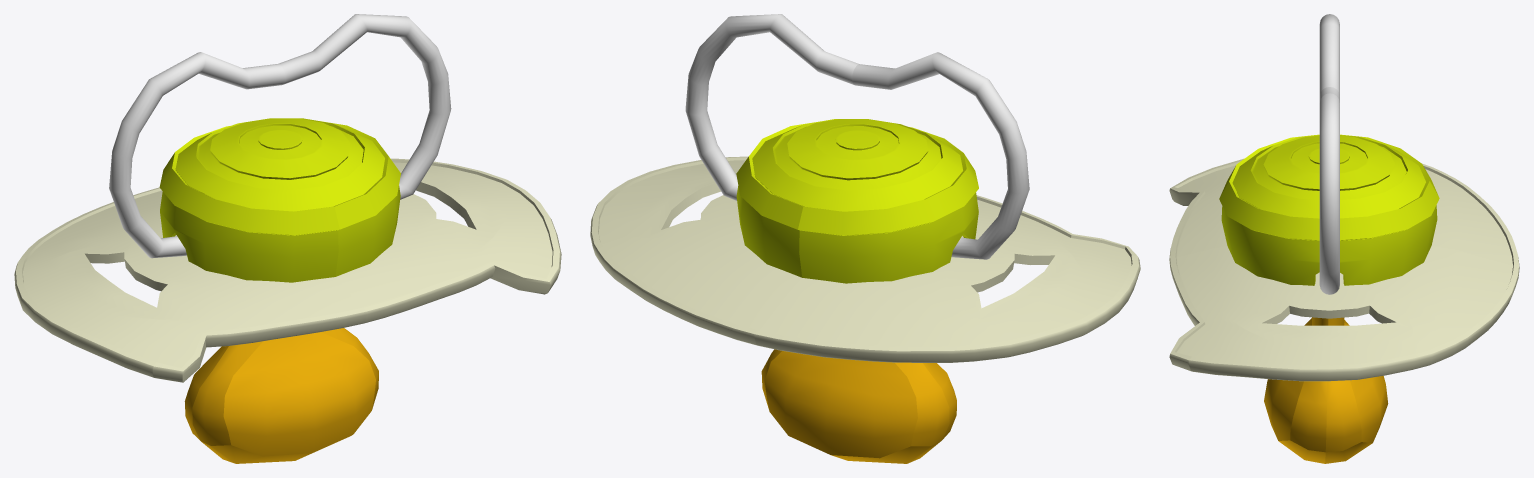
Rendered from teat.fbx.
The picture shows the model from 3 angles, left to right: view 1: azimuth 30°, elevation 25°; view 2: azimuth 150°, elevation 25°; view 3: azimuth 270°, elevation 25°; orthographic projection. The views are drawn at different scales.
Visible parts, largest first — view 1: pPlane5, pCylinder3, pCube9, pCylinder10; view 2: pPlane5, pCylinder3, pCube9, pCylinder10; view 3: pPlane5, pCylinder3, pCube9, pCylinder10.
Part boxes in pixels (x1,y1,x2,y2): pPlane5: (14,158,561,382); pCylinder3: (159,118,400,282); pCube9: (184,328,378,463); pCylinder10: (109,14,451,258); pPlane5: (590,156,1140,362); pCylinder3: (736,119,978,283); pCube9: (761,349,956,463); pCylinder10: (685,14,1029,259); pPlane5: (1169,158,1519,381); pCylinder3: (1219,134,1439,285); pCube9: (1264,317,1388,463); pCylinder10: (1319,14,1339,294).
Bounding box in the file's own units: 107 × 86.65 × 70.99.
